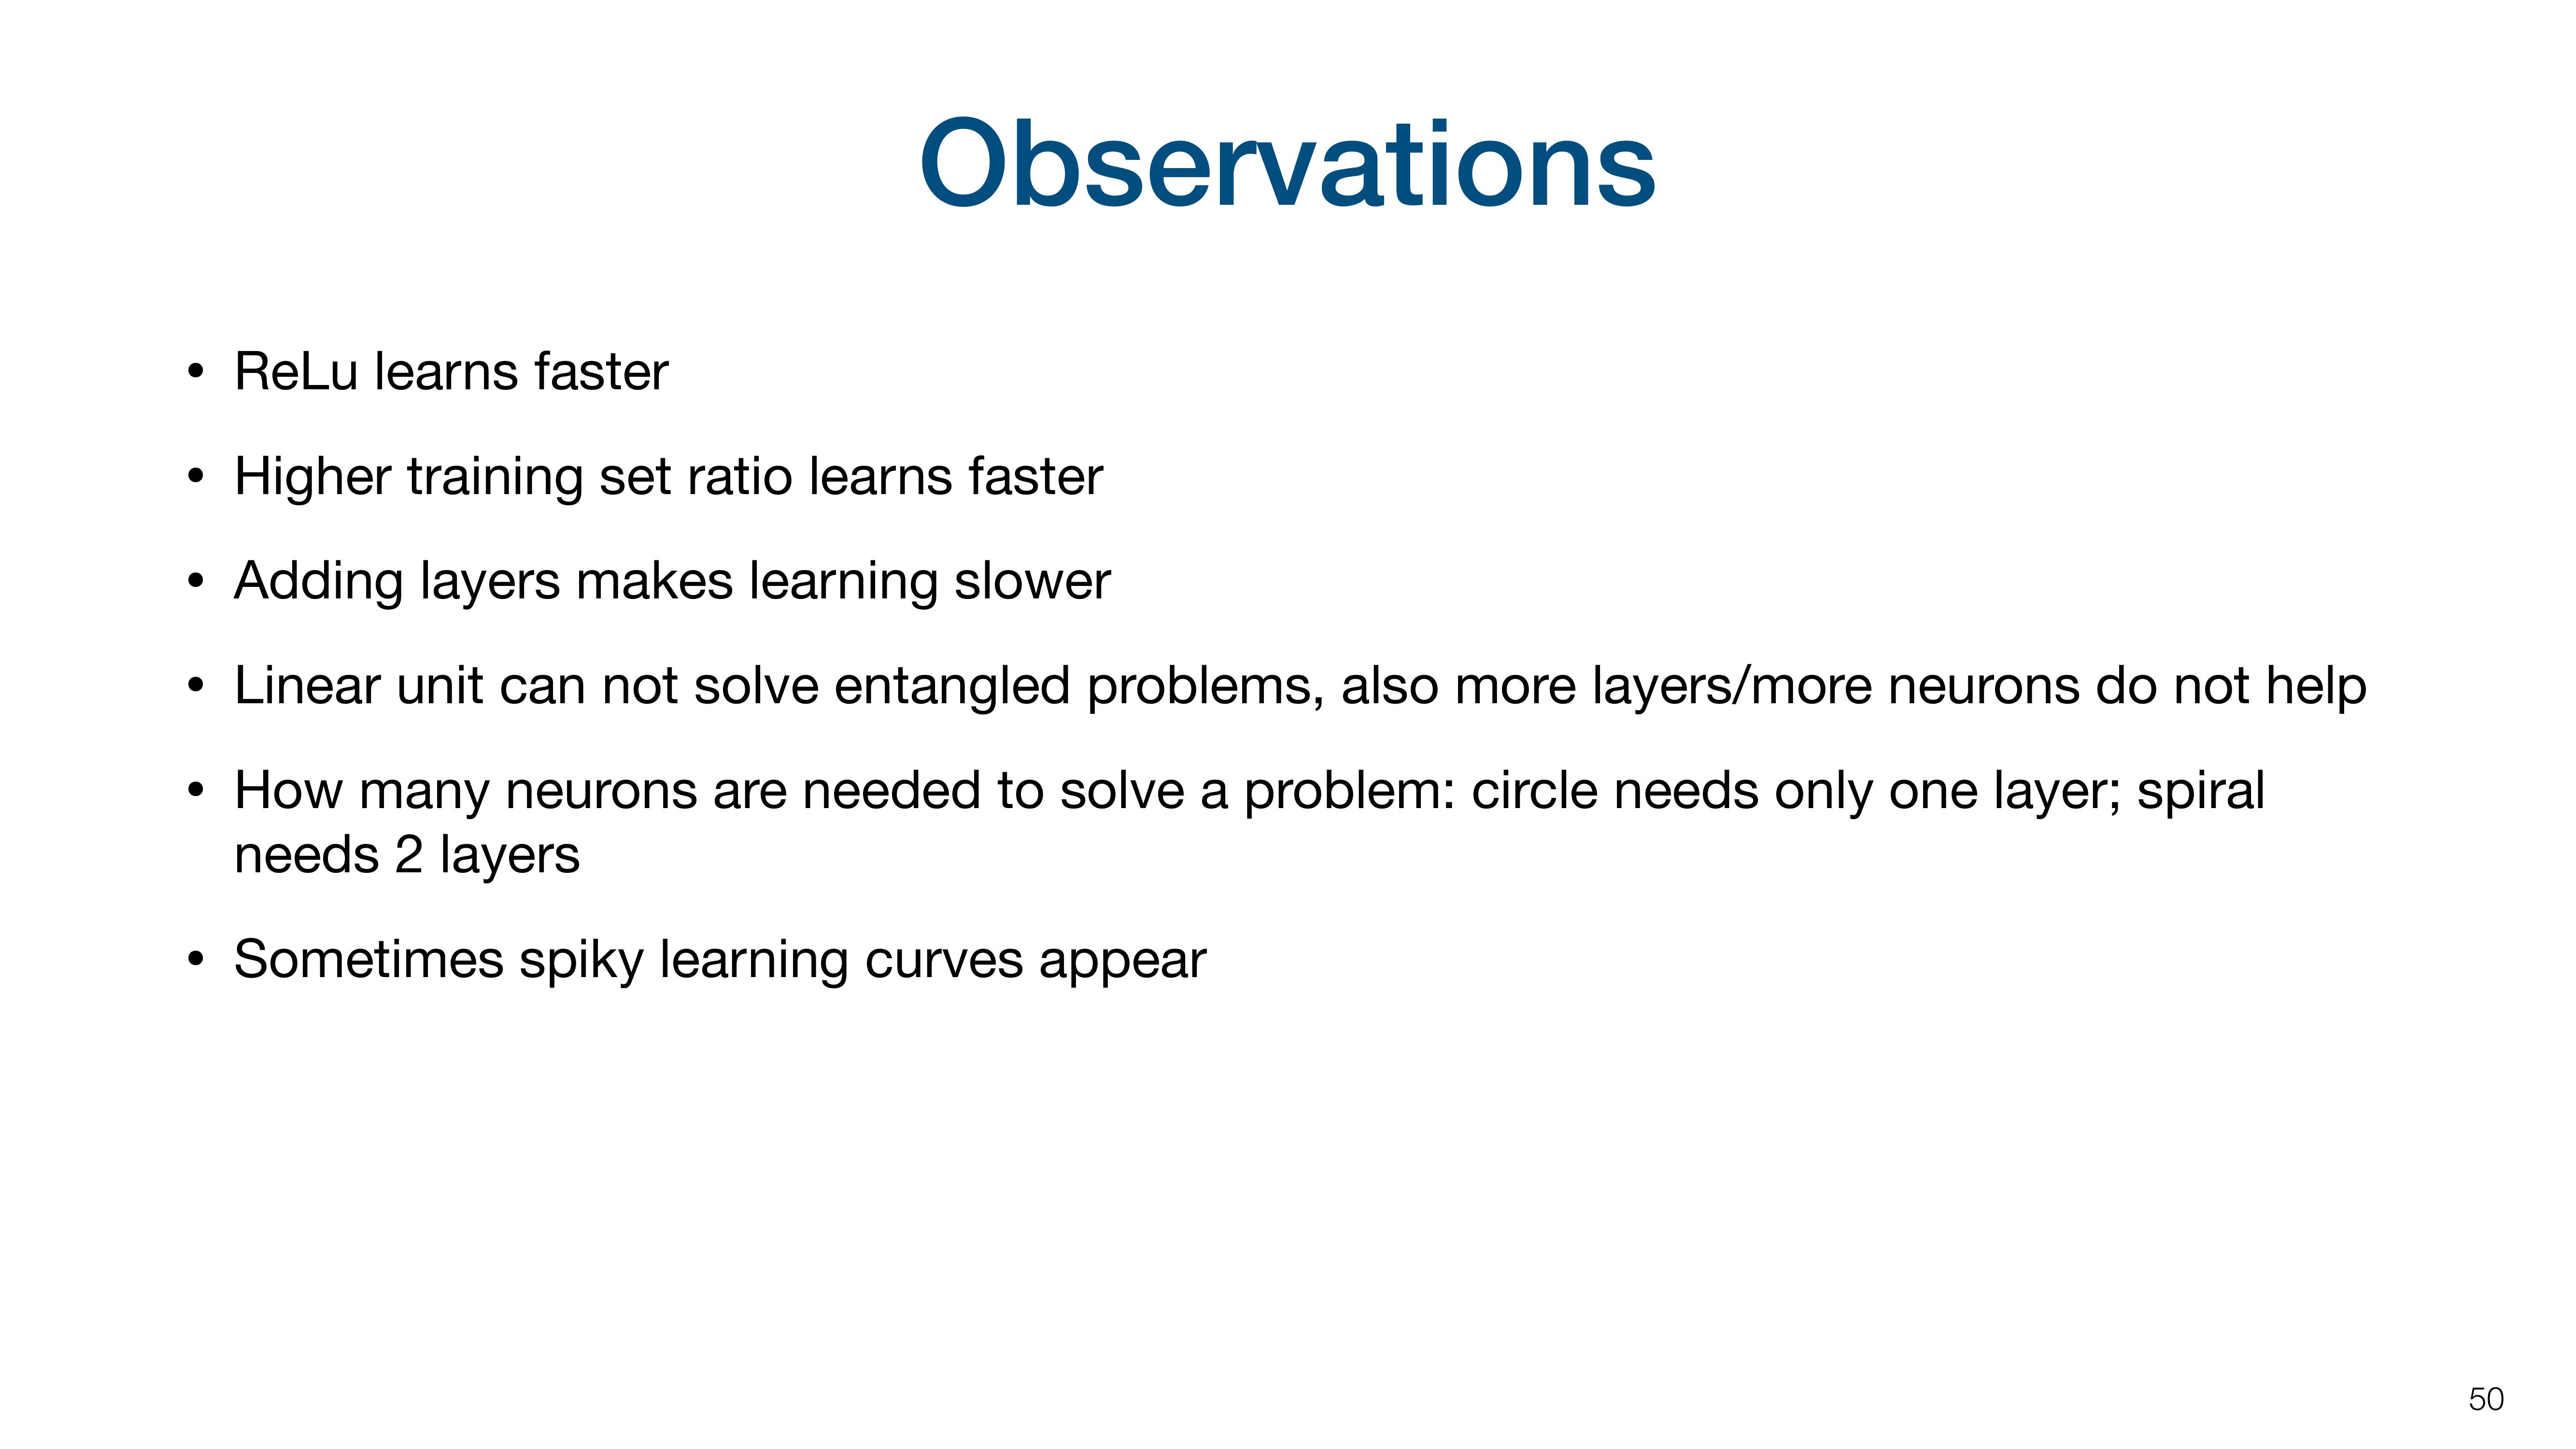Title: (863, 85, 1690, 239)
